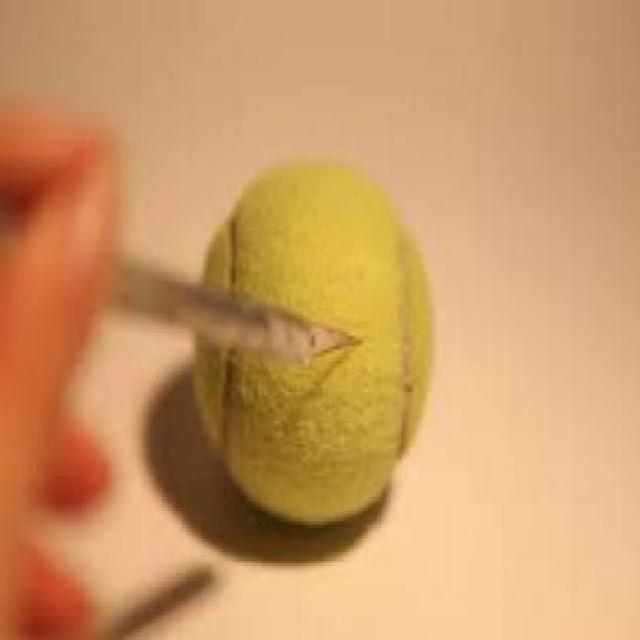Tennis_Ball: (191, 166, 434, 523)
